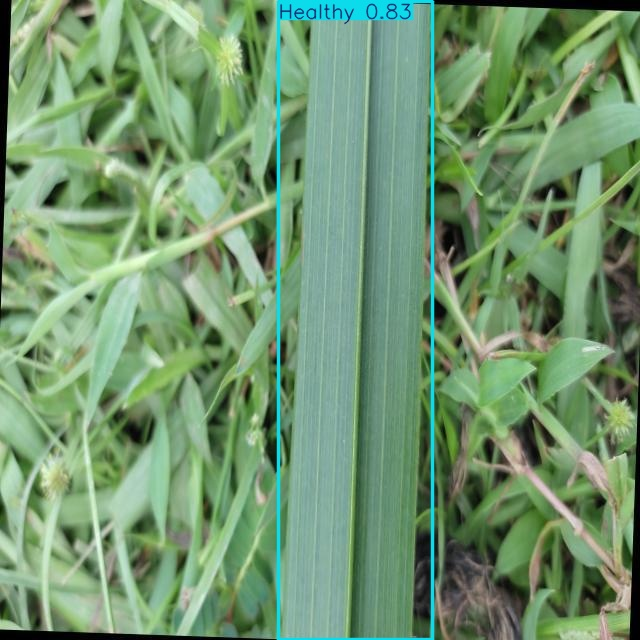Healthy: (279, 2, 432, 639)
